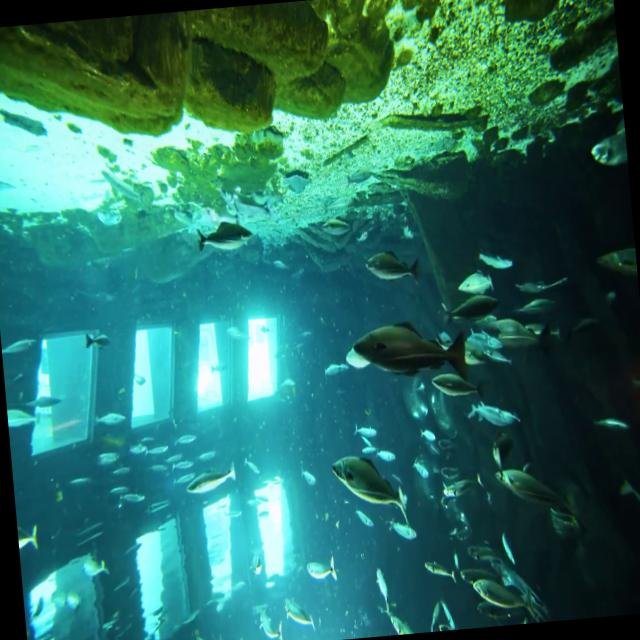fish: (352, 317, 469, 392), (488, 457, 580, 534), (332, 444, 404, 526), (192, 214, 248, 258)
